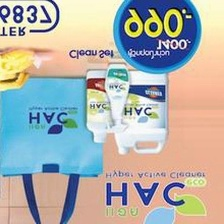cleaning_solution: (109, 65, 171, 156), (82, 66, 119, 144), (101, 58, 133, 135)
